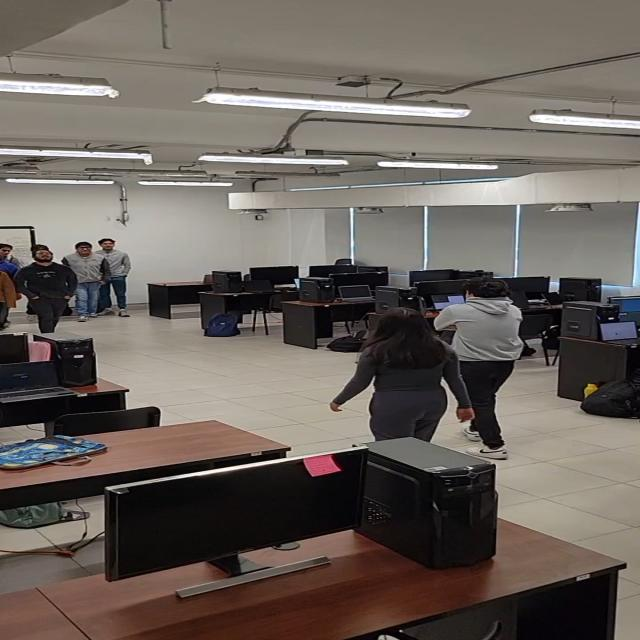Persona: (324, 308, 459, 453), (436, 276, 540, 454), (88, 234, 149, 319), (30, 251, 71, 331), (69, 244, 109, 318)
